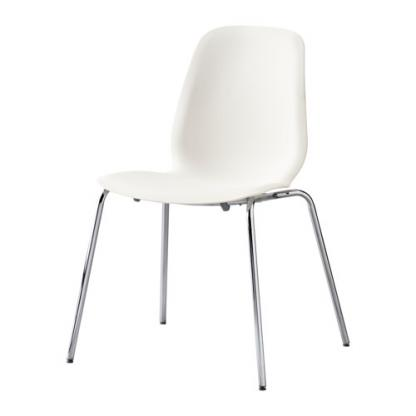Chair: (59, 20, 354, 394)
